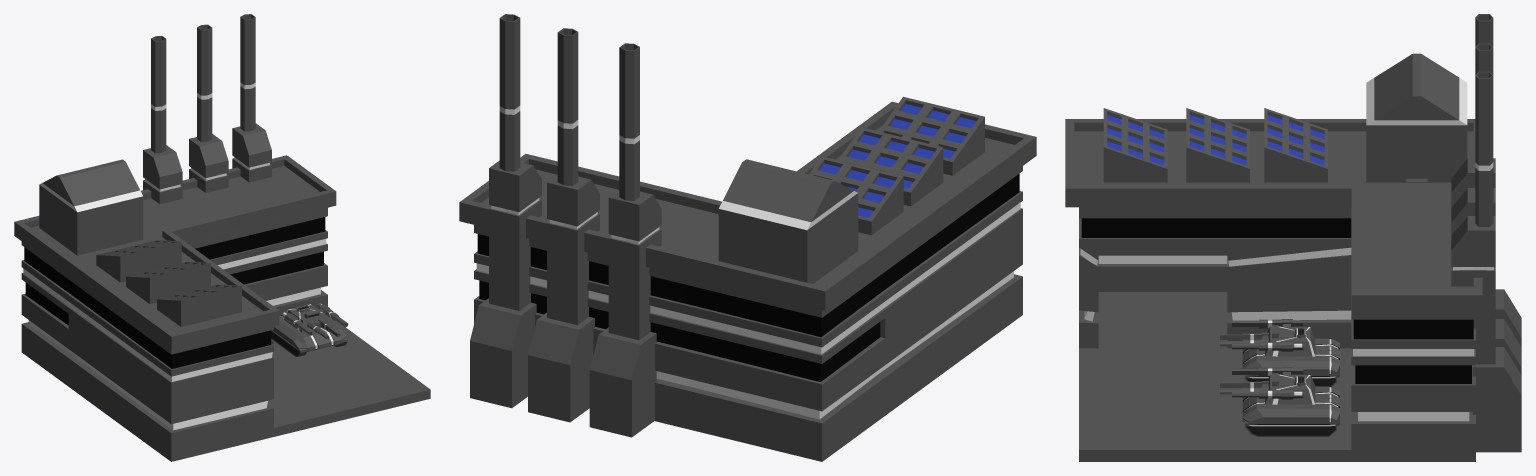
Rendered from LazerTankFactory.fbx.
3 renders of one model, left to right at view 1: azimuth 30°, elevation 25°; view 2: azimuth 150°, elevation 25°; view 3: azimuth 270°, elevation 25°, orthographic. The views are drawn at different scales.
Parts seen in each view (by area): view 1: LazerTankFactory; view 2: LazerTankFactory; view 3: LazerTankFactory.
Part boxes in pixels (x1,y1,x2,y2): LazerTankFactory: (14,14,430,461); LazerTankFactory: (459,14,1036,461); LazerTankFactory: (1065,14,1521,461).
Size of the model in its own units: 11.86 by 11.52 by 12.97.
